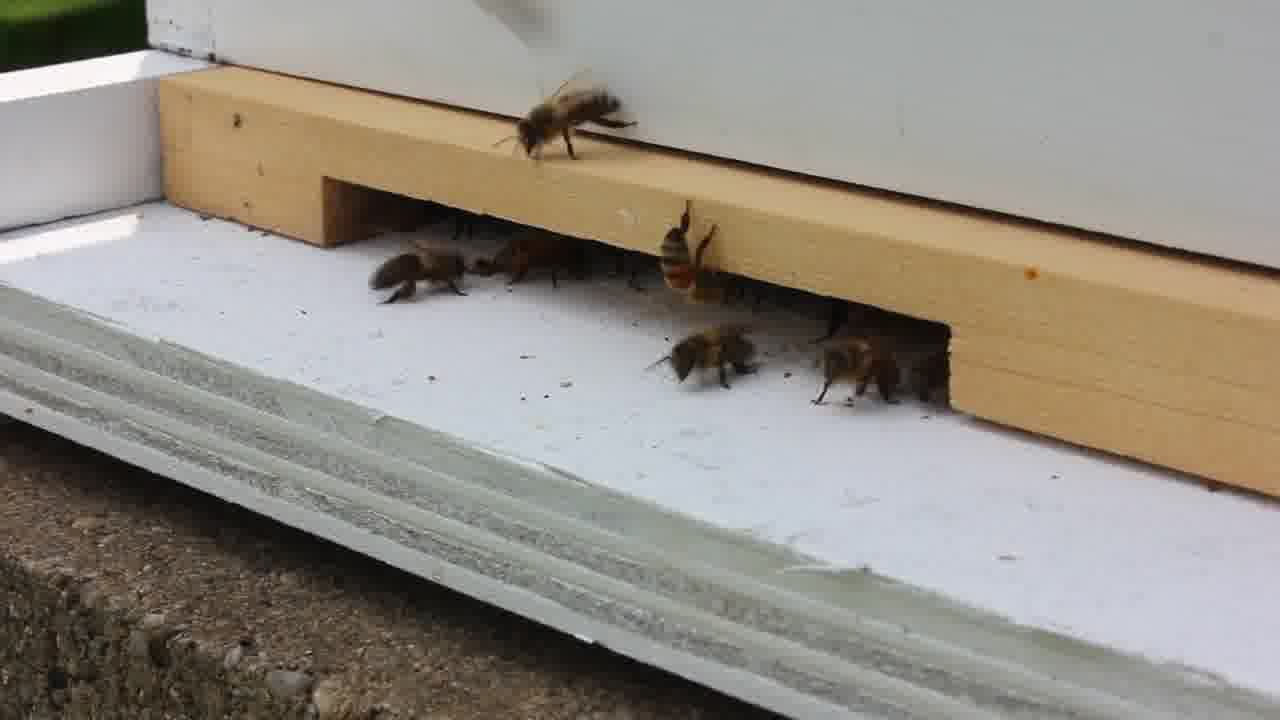pollen: (372, 237, 468, 306)
